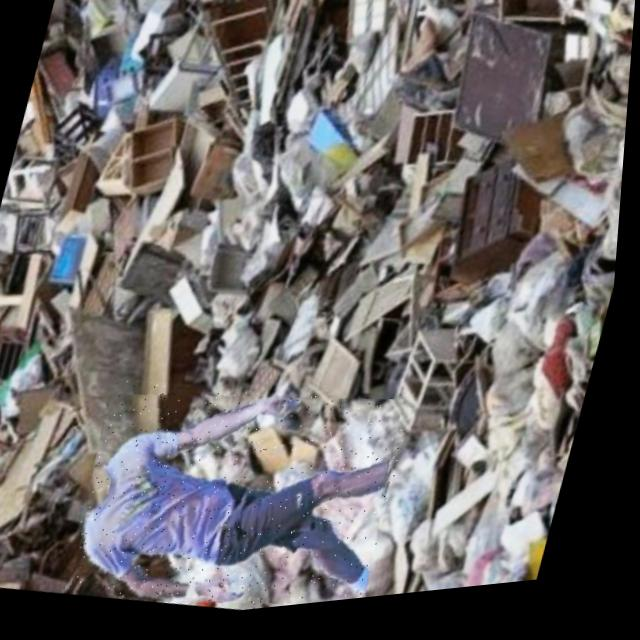Person in Rubble: (68, 356, 423, 631)
